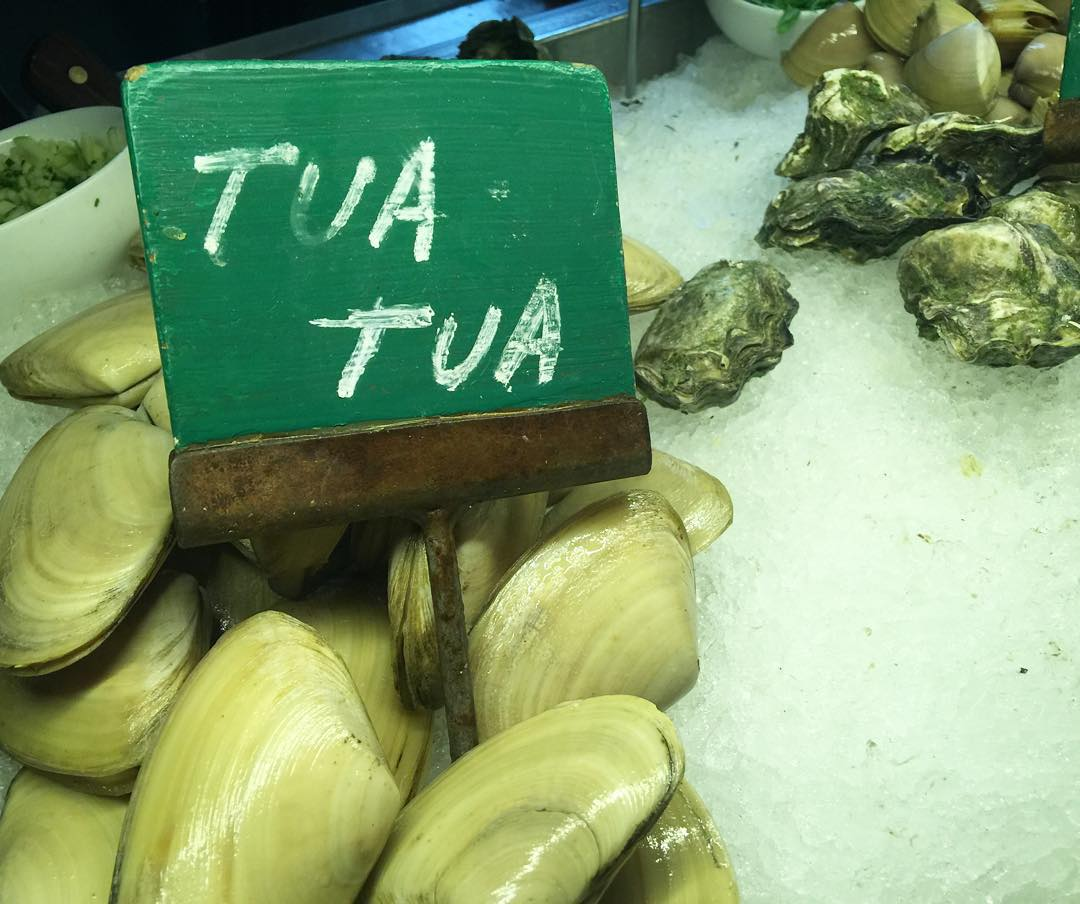tuatua: (117, 604, 399, 904), (379, 694, 667, 904), (469, 489, 699, 735), (1, 399, 175, 685), (4, 576, 205, 794), (308, 576, 427, 787), (4, 292, 160, 415), (4, 756, 121, 899)
